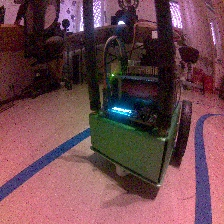rob: (87, 34, 192, 188)
